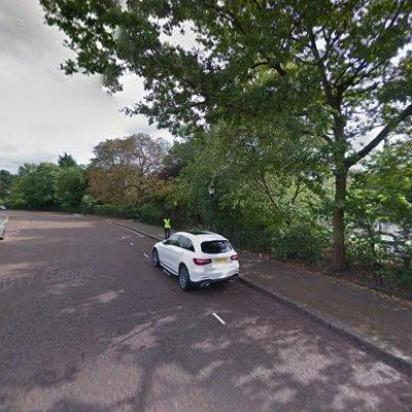stationary-car-onstreet: (152, 228, 240, 294)
